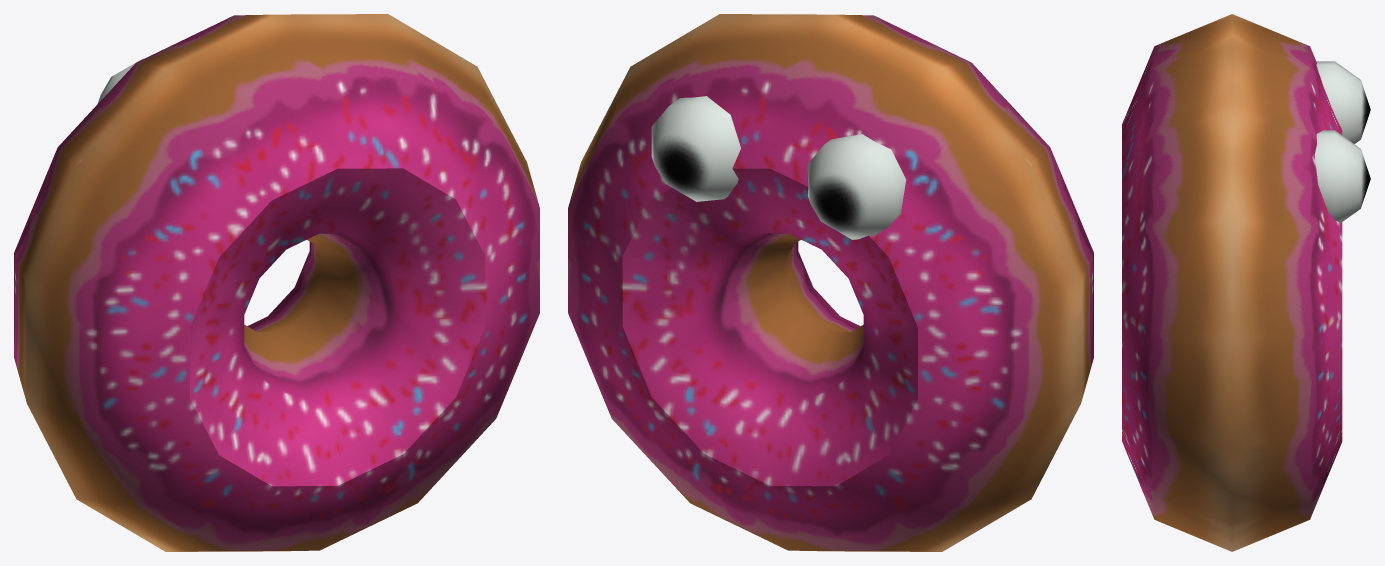
Rendered from Donut.FBX.
The picture shows the model from 3 angles, left to right: view 1: azimuth 30°, elevation 25°; view 2: azimuth 150°, elevation 25°; view 3: azimuth 270°, elevation 25°; orthographic projection. The views are drawn at different scales.
Visible parts, largest first — view 1: Paczek; view 2: Paczek, Oko_lewe, Oko_prawe; view 3: Paczek, Oko_prawe, Oko_lewe.
Part boxes in pixels (x1,y1,x2,y2): Paczek: (14, 14, 539, 551); Paczek: (568, 14, 1093, 551); Oko_lewe: (807, 134, 906, 239); Oko_prawe: (651, 96, 740, 201); Paczek: (1122, 14, 1342, 551); Oko_prawe: (1314, 130, 1370, 222); Oko_lewe: (1316, 61, 1370, 143).
Bounding box in the file's own units: 4.23 × 4.34 × 2.01.
